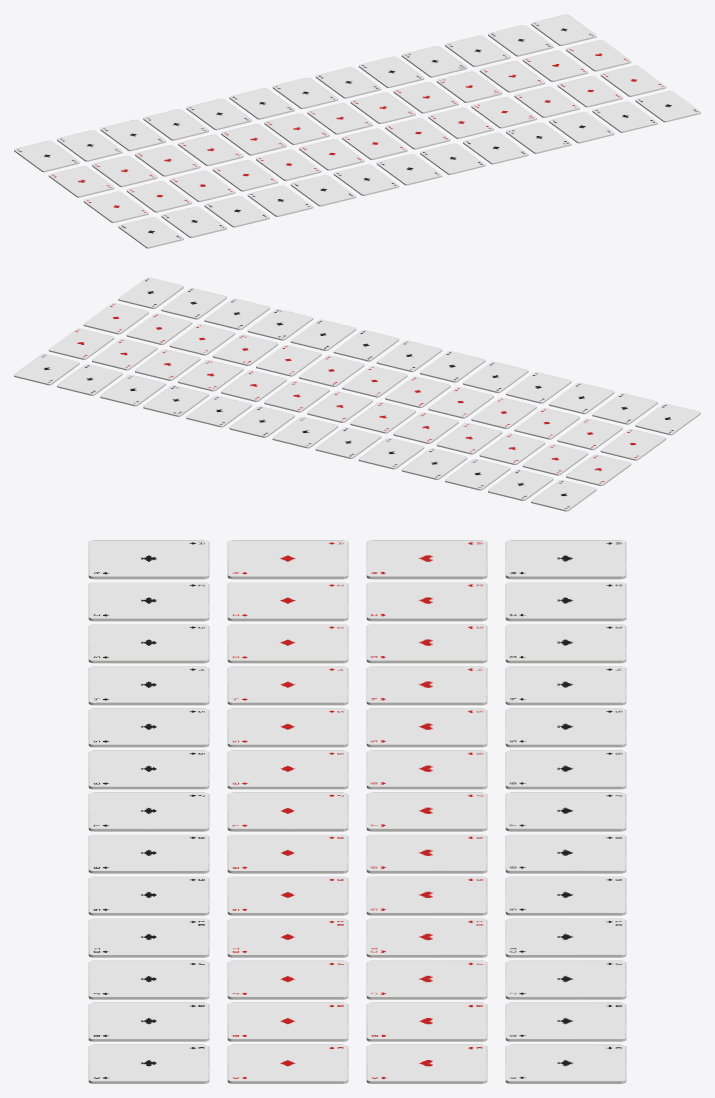
The model's file is deck.glb.
The picture shows the model from 3 angles, top to bottom: view 1: azimuth 30°, elevation 25°; view 2: azimuth 150°, elevation 25°; view 3: azimuth 270°, elevation 25°; orthographic projection. The views are drawn at different scales.
Visible parts, largest first — view 1: Card_A_spades, Card_5_spades, Card_8_spades, Card_10_hearts, Card_4_diamonds, Card_6_clubs, Card_9_clubs, Card_K_clubs, Card_3_spades, Card_6_spades, Card_9_hearts, Card_J_hearts (+40 smaller); view 2: Card_6_spades, Card_9_spades, Card_K_spades, Card_4_hearts, Card_10_diamonds, Card_A_clubs, Card_5_clubs, Card_8_clubs, Card_8_spades, Card_J_spades, Card_2_hearts, Card_3_hearts (+40 smaller); view 3: Card_3_spades, Card_6_spades, Card_7_spades, Card_8_spades, Card_J_spades, Card_3_hearts, Card_6_hearts, Card_7_hearts, Card_8_hearts, Card_J_hearts, Card_3_diamonds, Card_6_diamonds (+40 smaller).
Boxes of the visible parts, left/top/right/bottom form: Card_A_spades: left=14, top=140, right=79, bottom=172; Card_5_spades: left=186, top=98, right=251, bottom=130; Card_8_spades: left=315, top=67, right=381, bottom=98; Card_10_hearts: left=436, top=71, right=502, bottom=102; Card_4_diamonds: left=212, top=160, right=278, bottom=191; Card_6_clubs: left=333, top=164, right=399, bottom=195; Card_9_clubs: left=463, top=132, right=528, bottom=164; Card_K_clubs: left=635, top=90, right=700, bottom=122; Card_3_spades: left=100, top=119, right=165, bottom=151; Card_6_spades: left=229, top=88, right=294, bottom=119; Card_9_hearts: left=393, top=82, right=458, bottom=113; Card_J_hearts: left=479, top=61, right=545, bottom=92; Card_6_spades: left=315, top=427, right=381, bottom=458; Card_9_spades: left=186, top=395, right=251, bottom=427; Card_K_spades: left=14, top=353, right=79, bottom=385; Card_4_hearts: left=436, top=423, right=502, bottom=454; Card_10_diamonds: left=212, top=334, right=278, bottom=365; Card_A_clubs: left=635, top=403, right=700, bottom=435; Card_5_clubs: left=463, top=361, right=528, bottom=393; Card_8_clubs: left=333, top=330, right=399, bottom=361; Card_8_spades: left=229, top=406, right=294, bottom=437; Card_J_spades: left=100, top=374, right=165, bottom=406; Card_2_hearts: left=522, top=444, right=588, bottom=475; Card_3_hearts: left=479, top=433, right=545, bottom=464; Card_3_spades: left=505, top=624, right=626, bottom=663; Card_6_spades: left=505, top=750, right=626, bottom=789; Card_7_spades: left=505, top=792, right=626, bottom=831; Card_8_spades: left=505, top=834, right=626, bottom=873; Card_J_spades: left=505, top=960, right=626, bottom=999; Card_3_hearts: left=366, top=624, right=487, bottom=663; Card_6_hearts: left=366, top=750, right=487, bottom=789; Card_7_hearts: left=366, top=792, right=487, bottom=831; Card_8_hearts: left=366, top=834, right=487, bottom=873; Card_J_hearts: left=366, top=960, right=487, bottom=999; Card_3_diamonds: left=227, top=624, right=348, bottom=663; Card_6_diamonds: left=227, top=750, right=348, bottom=789.
Bounding box in the file's own units: 9.32 × 0.02 × 3.92.
Materials: 156 (104 with a texture image).
